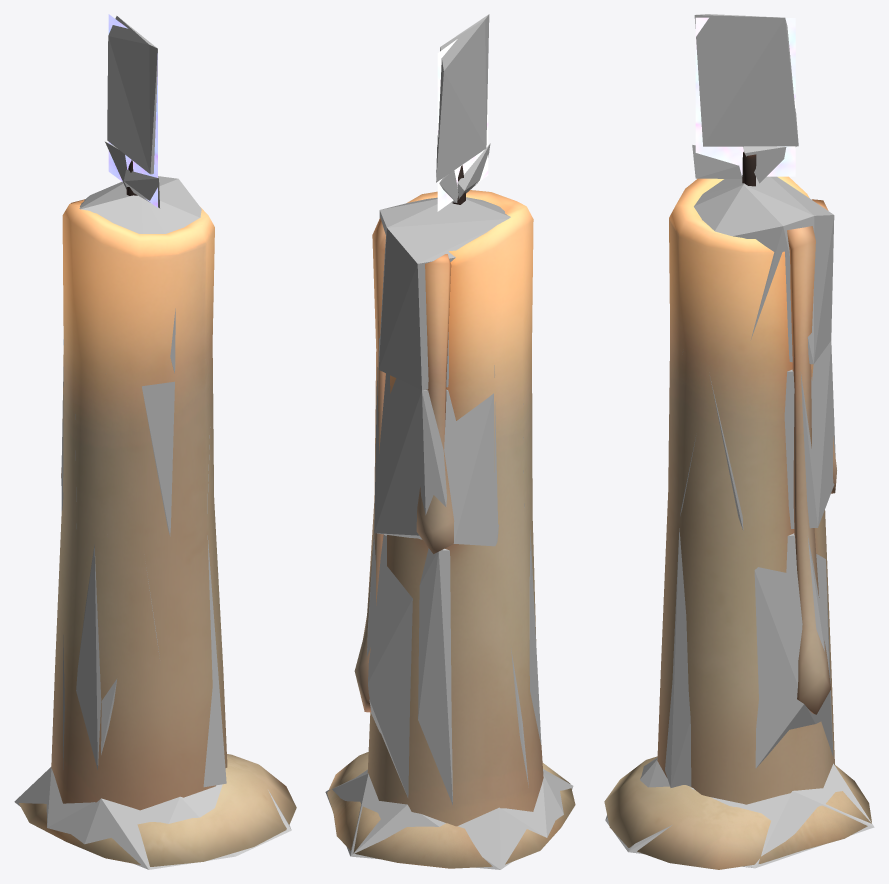
The model's file is SM_Candle_b.fbx.
3 renders of one model, left to right at view 1: azimuth 30°, elevation 25°; view 2: azimuth 150°, elevation 25°; view 3: azimuth 270°, elevation 25°, orthographic.
Parts seen in each view (by area): view 1: SM_Candle_b, SM_Candle_b_ConvexHulls; view 2: SM_Candle_b, SM_Candle_b_ConvexHulls; view 3: SM_Candle_b, SM_Candle_b_ConvexHulls.
Part boxes in pixels (box(x1,y1,x2,y2)): SM_Candle_b: box(19, 14, 296, 866); SM_Candle_b_ConvexHulls: box(14, 16, 291, 869); SM_Candle_b: box(327, 39, 575, 868); SM_Candle_b_ConvexHulls: box(325, 14, 573, 869); SM_Candle_b: box(604, 17, 871, 869); SM_Candle_b_ConvexHulls: box(605, 14, 874, 868).
Size of the model in its own units: 10.32 by 10.43 by 33.59.
2 materials, 1 textured.
